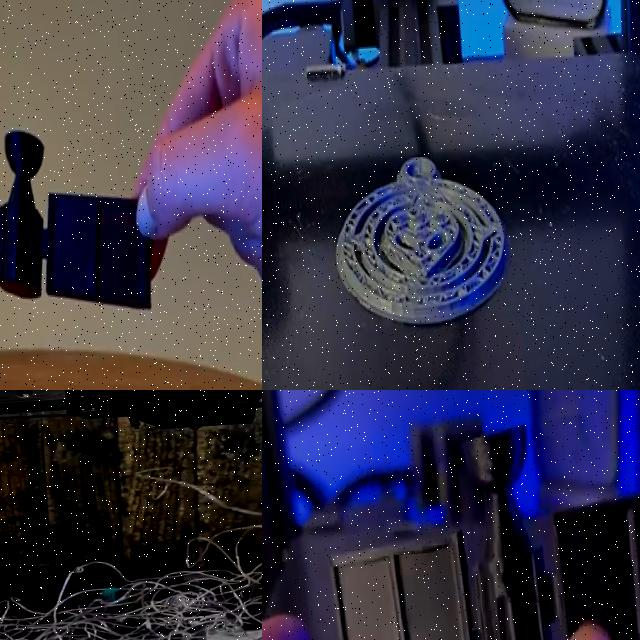spaghetti: (0, 520, 262, 640)
